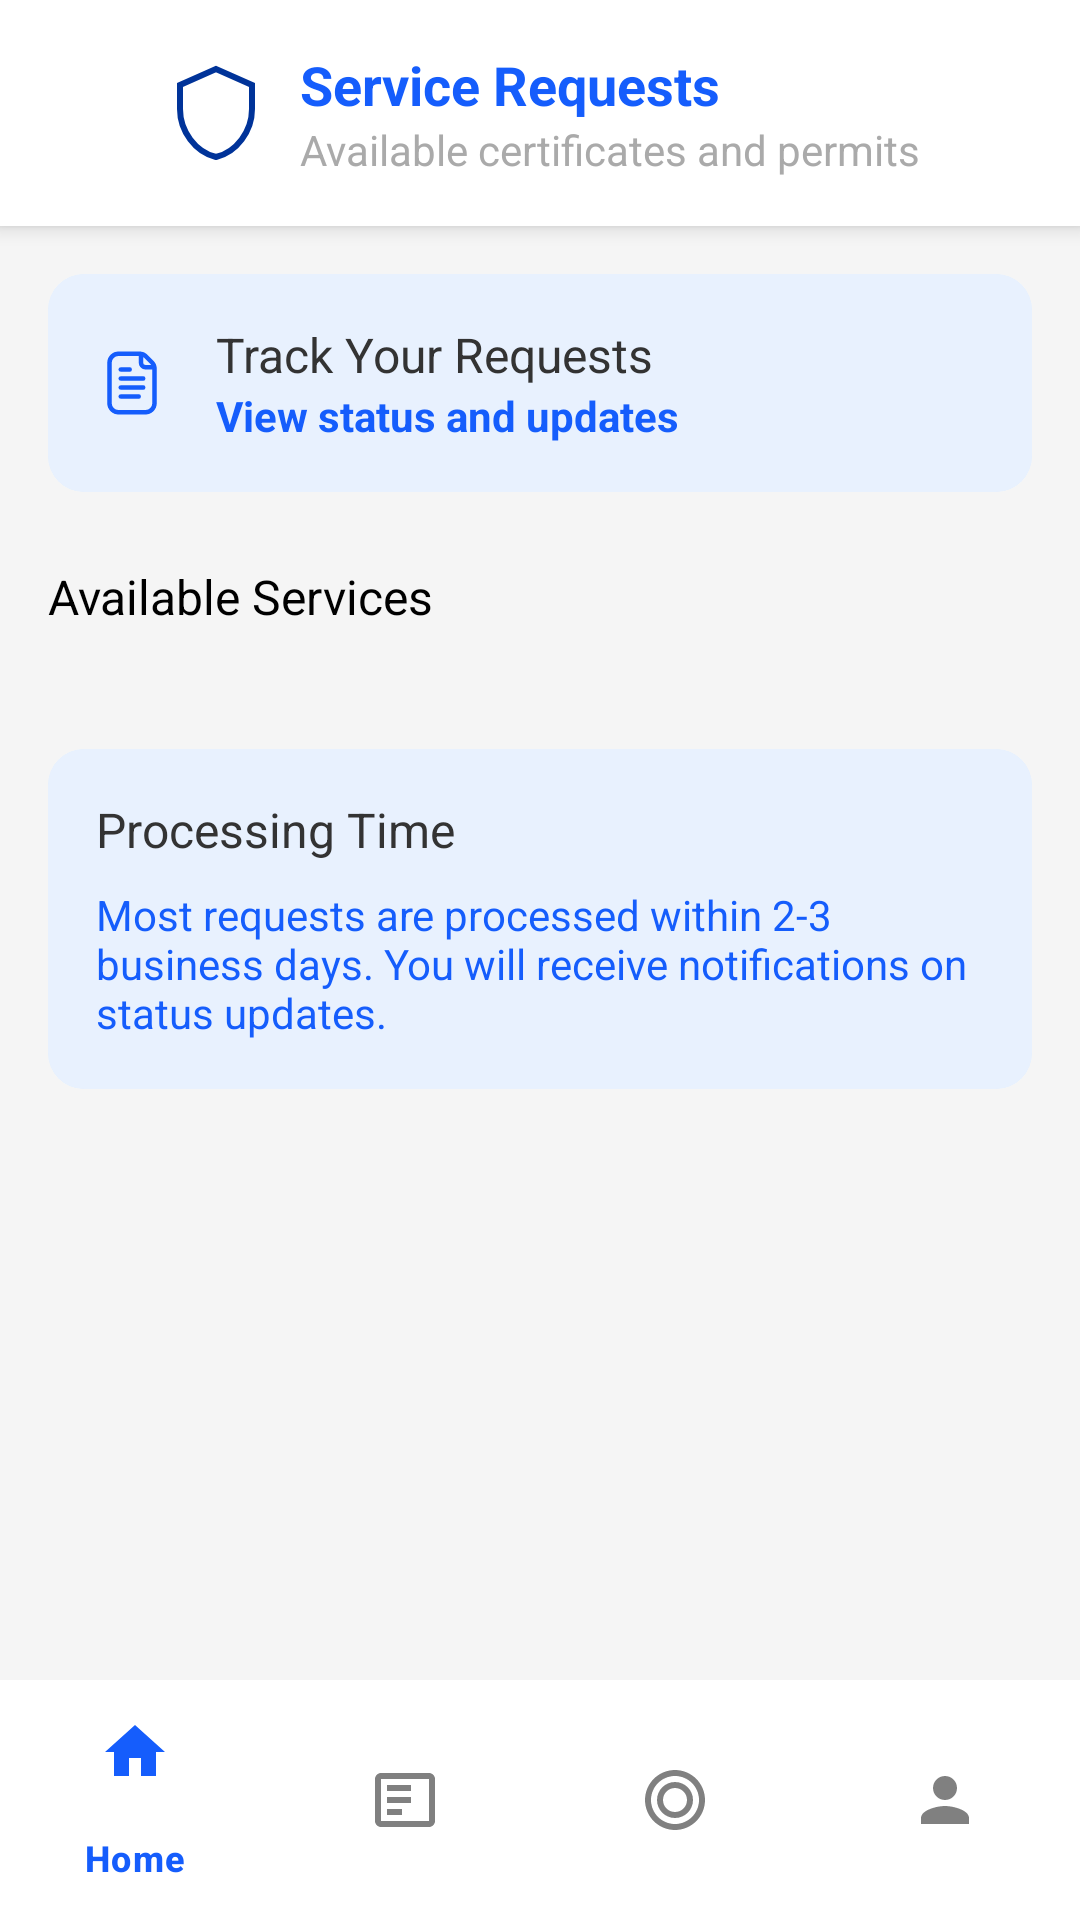

Named icons in this screenshot (1080 x 1920) and their bounding boxes, bbox(x1, y1, x2, y2):
shield: bbox(177, 66, 255, 160)
